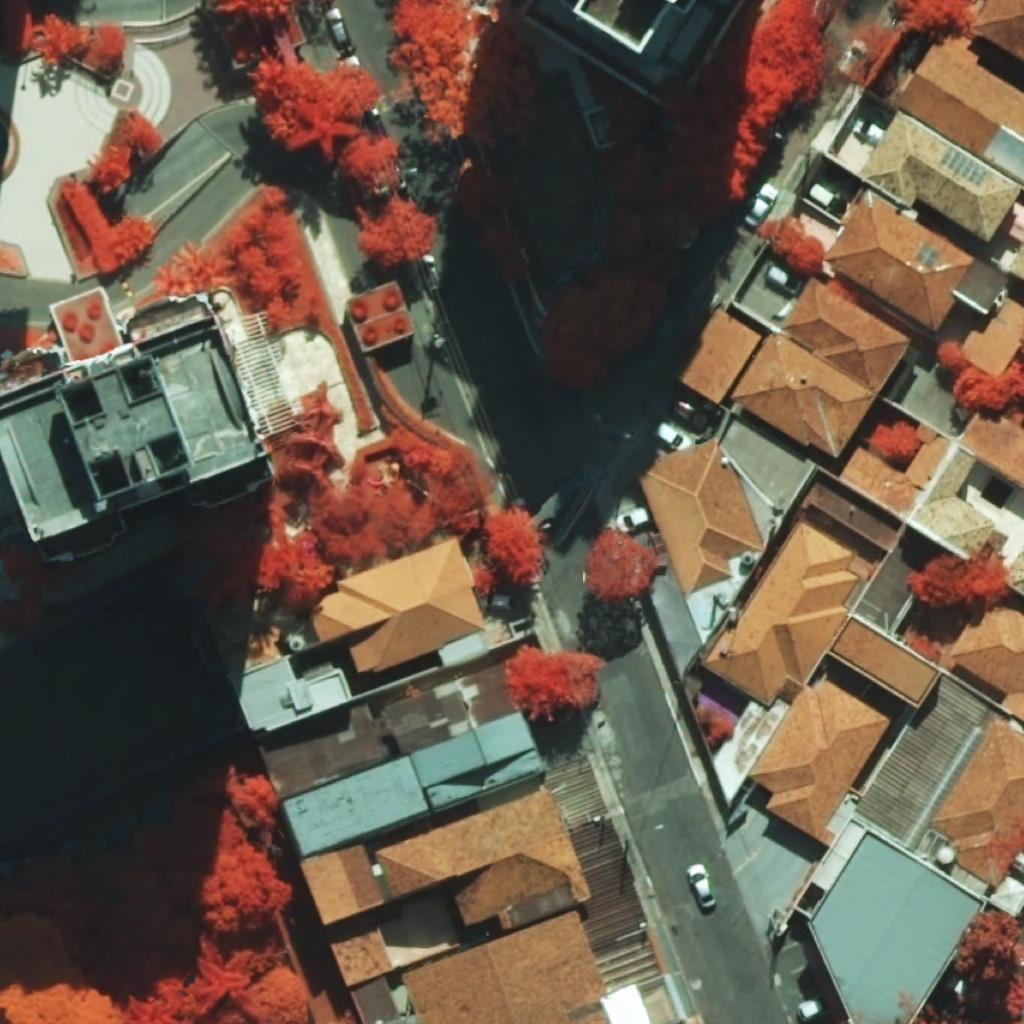pool: (980, 477, 1014, 510)
